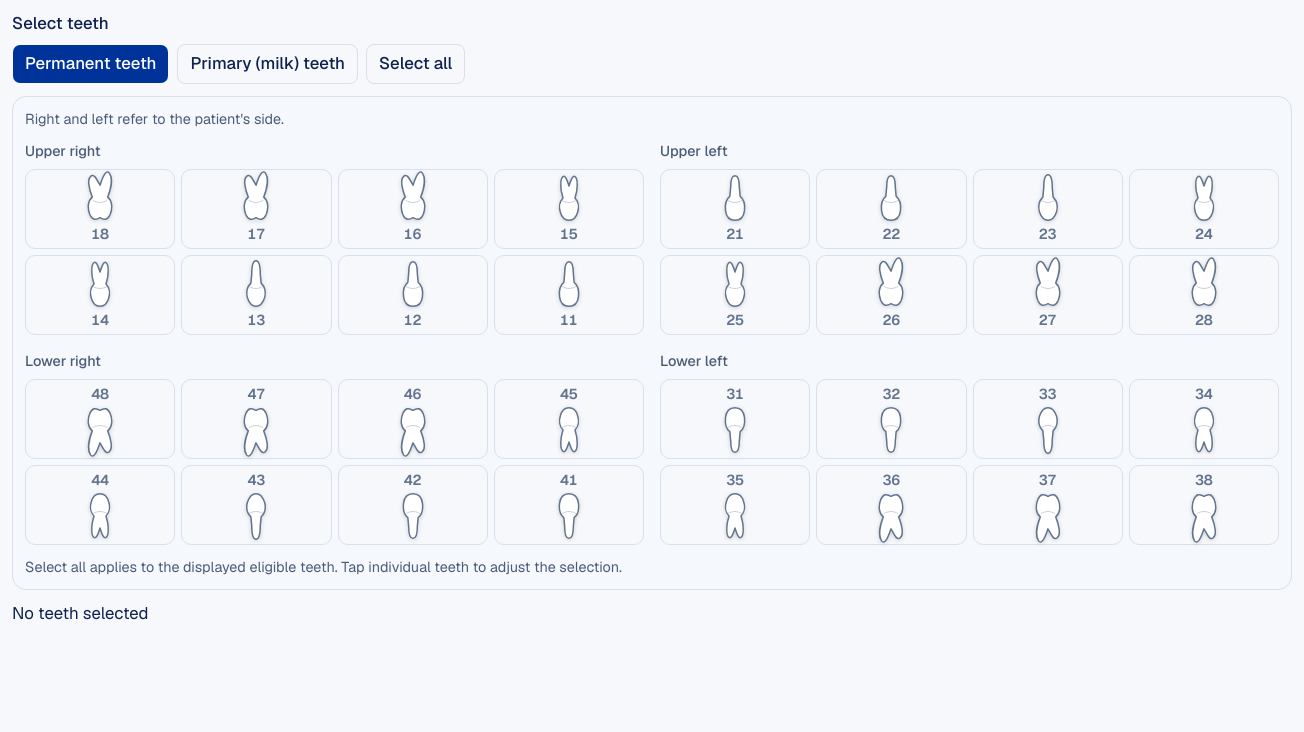
Test: ToothSelector › selects all displayed teeth and allows individual deselection and clearing
Step 1. Click the button "Select all" → (416, 64), box [366,44,465,84]
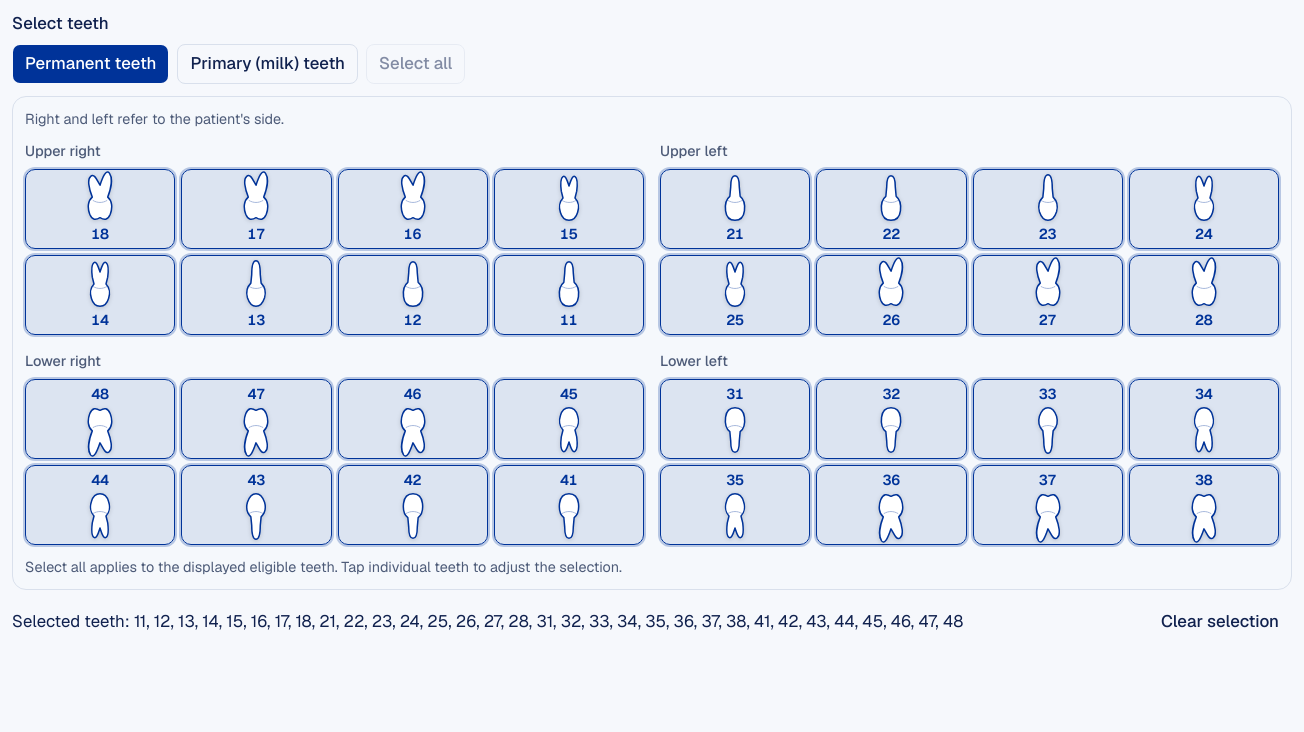
Result: the button "Select all" is disabled at [366,44,465,84]
Step 2. Click the button named "11," → (569, 295), box [494,255,644,335]
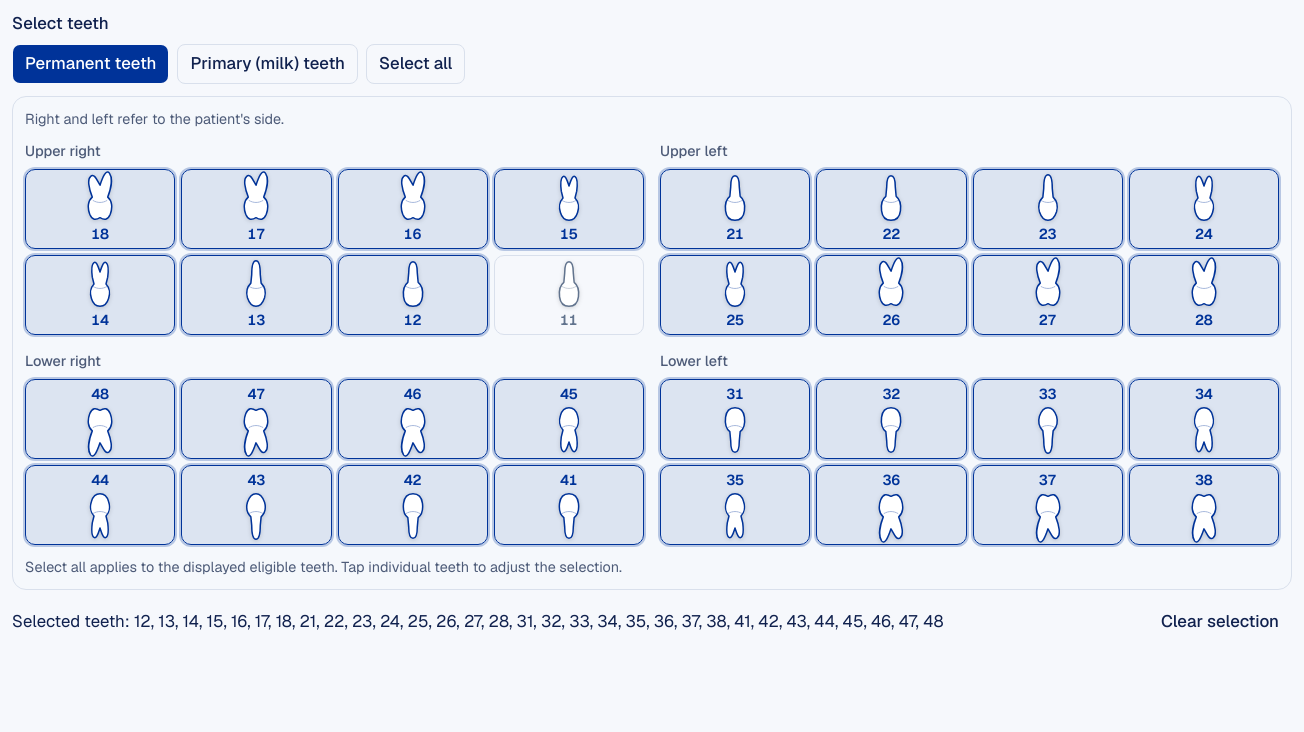
Result: the button "Select all" is enabled at [366,44,465,84]
Step 3. Click the button "Primary (milk) teeth" → (268, 64), box [178,44,358,84]
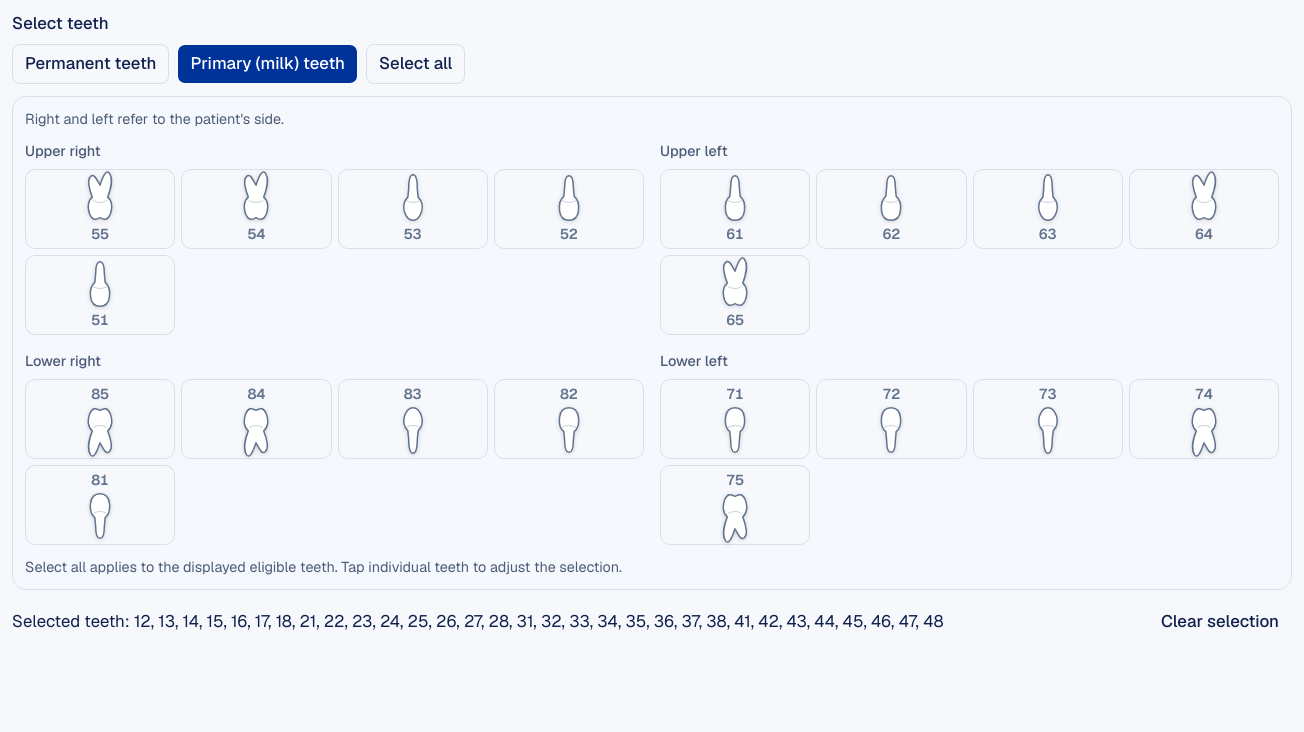
Step 4. Click the button "Select all" → (416, 64), box [366,44,465,84]
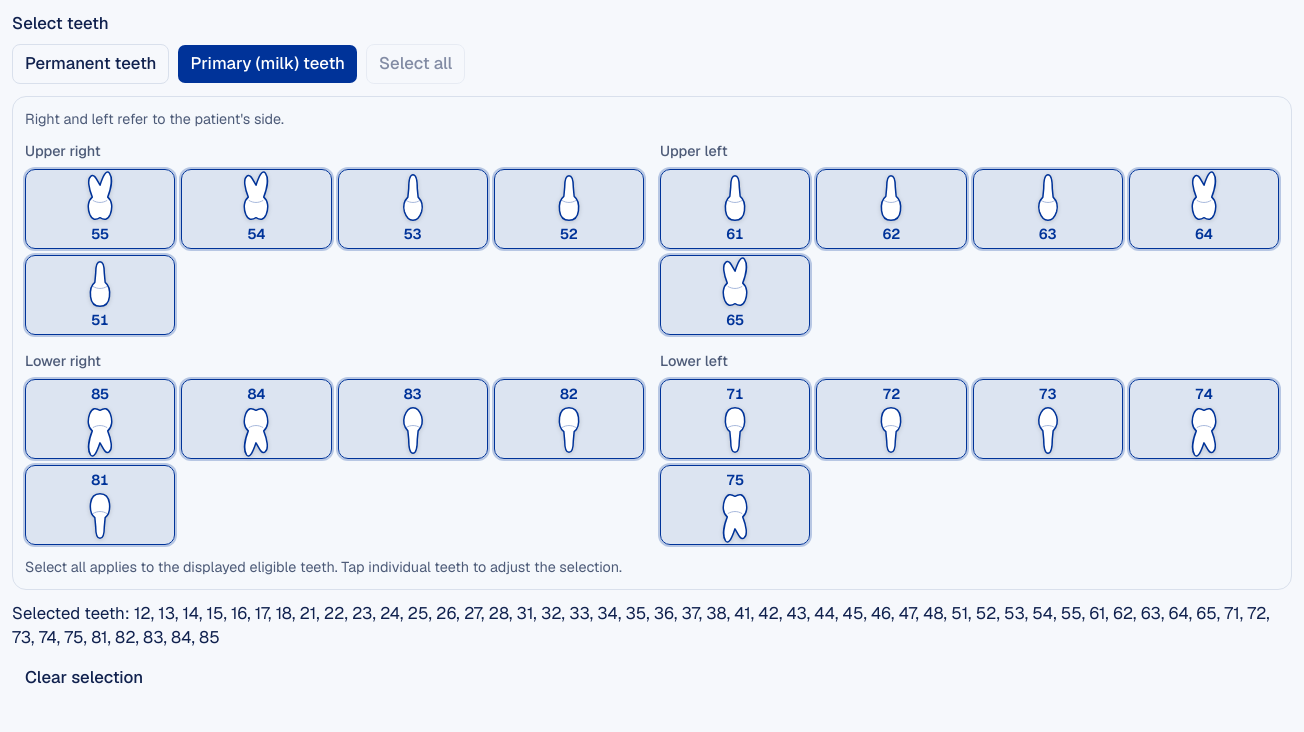
Result: the button named "51," is pressed at [25,255,175,335]
Step 5. Click the button "Permanent teeth" → (91, 64), box [12,44,170,84]
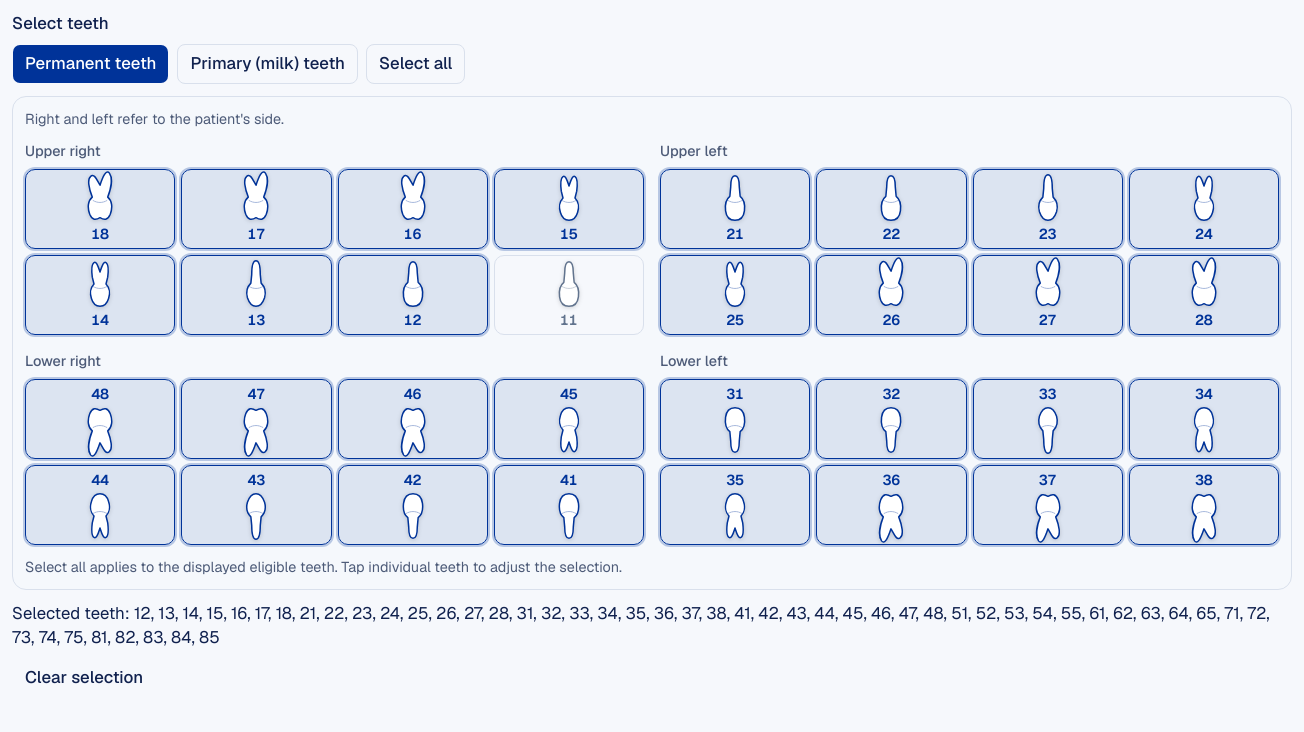
Result: the button named "12," is pressed at [338,255,488,335]
Result: the button named "11," is not pressed at [494,255,644,335]
Step 6. Click the button "Clear selection" → (84, 678), box [12,658,156,698]
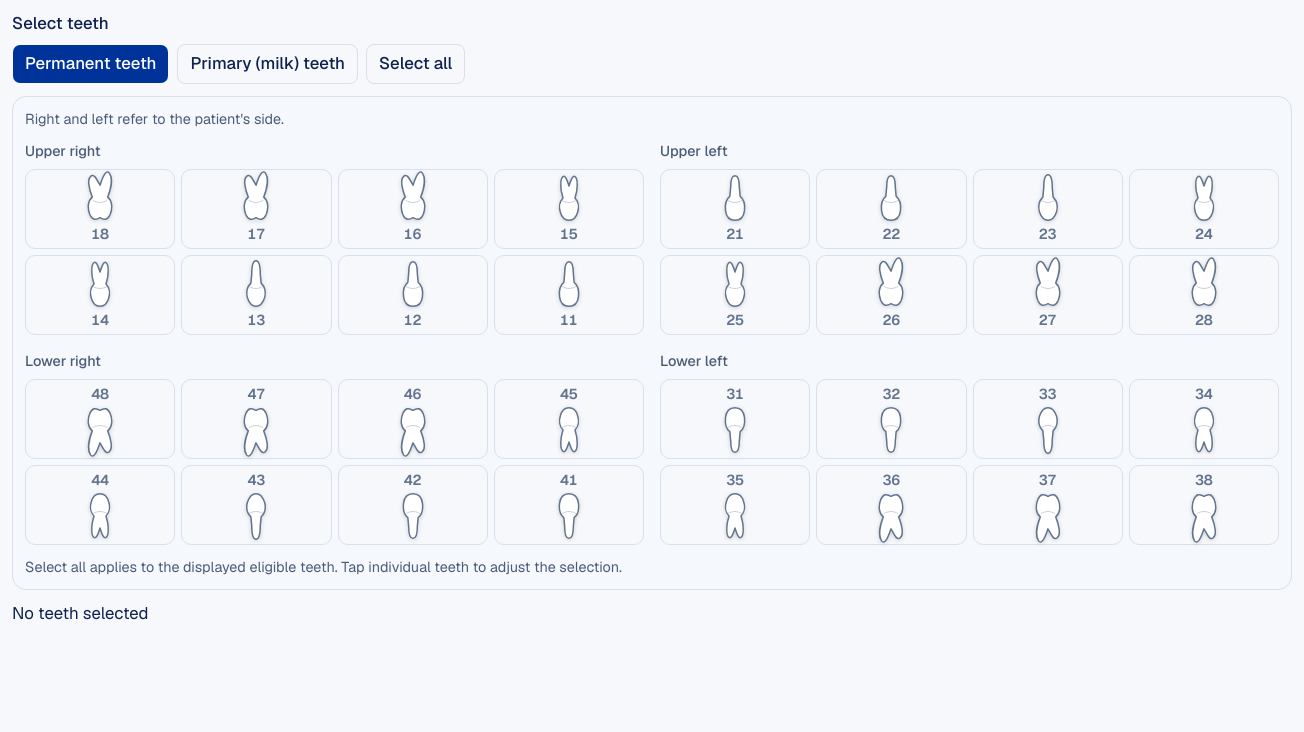
Result: the message reads "No teeth selected" at [12,602,149,624]
